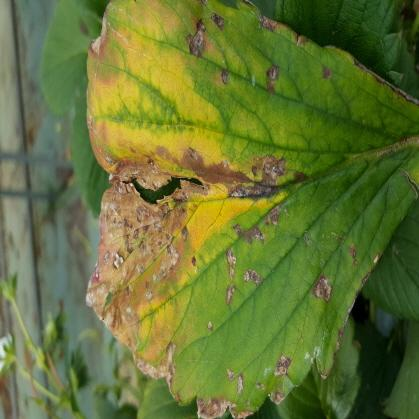Angular Leafspot: (84, 0, 418, 418)
